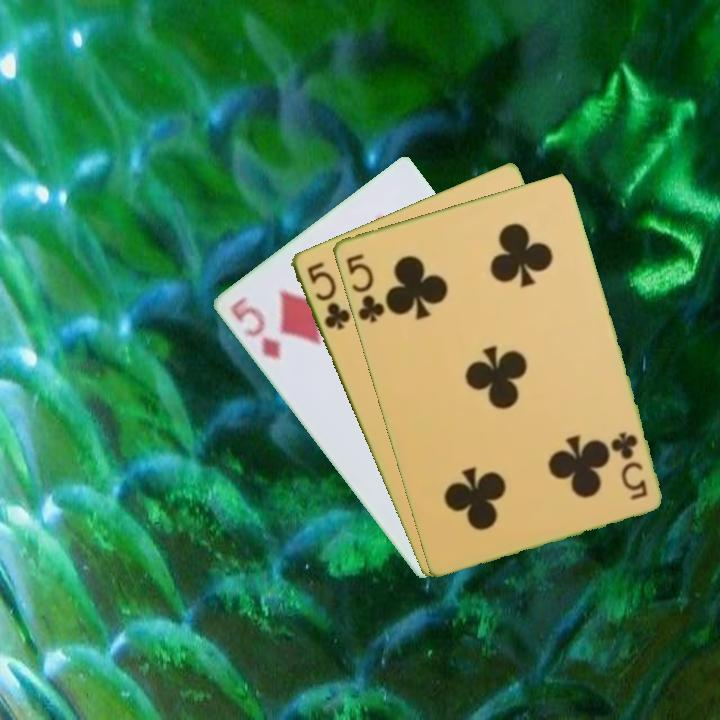5c: (303, 258, 353, 333), (342, 249, 387, 325), (608, 427, 650, 503)
5d: (226, 293, 283, 363)
